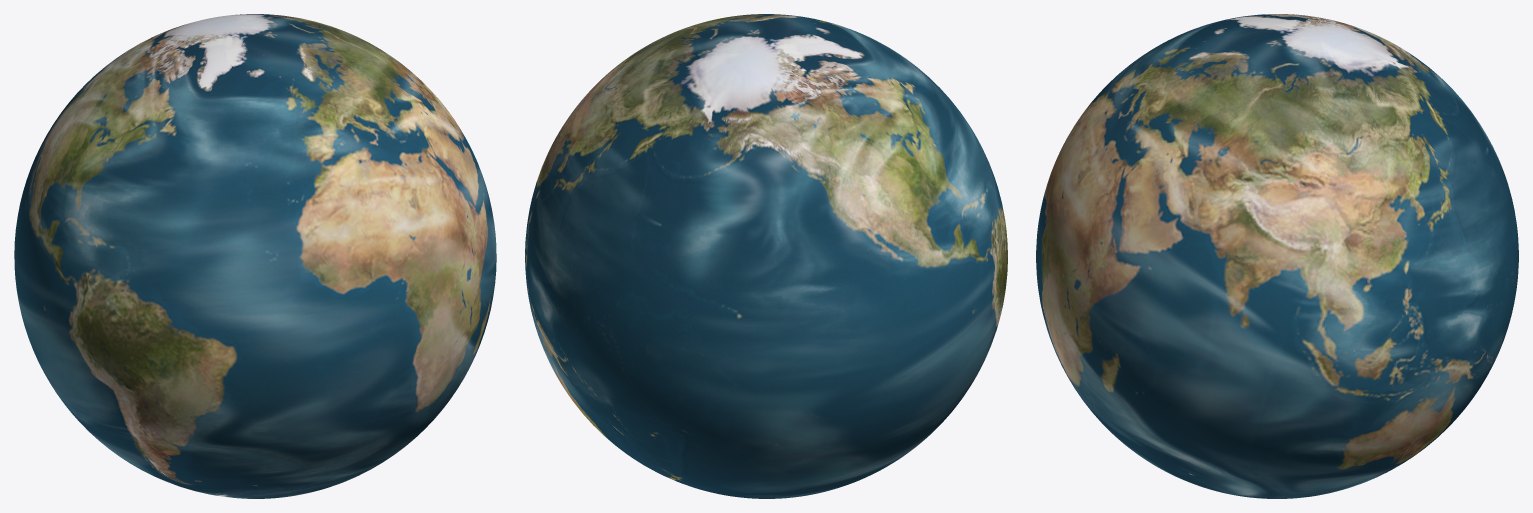
The model's file is earth.glb.
3 views of the same model, side by side, from view 1: azimuth 30°, elevation 25°; view 2: azimuth 150°, elevation 25°; view 3: azimuth 270°, elevation 25° (orthographic).
Visible parts, largest first — view 1: 13902_Earth_v1_l3; view 2: 13902_Earth_v1_l3; view 3: 13902_Earth_v1_l3.
Part boxes in pixels (x1,y1,x2,y2): 13902_Earth_v1_l3: (14,14,496,498); 13902_Earth_v1_l3: (525,14,1007,498); 13902_Earth_v1_l3: (1036,14,1518,498).
Size of the model in its own units: 11.07 by 11.15 by 11.07.
Materials: 1 (1 with a texture image).
